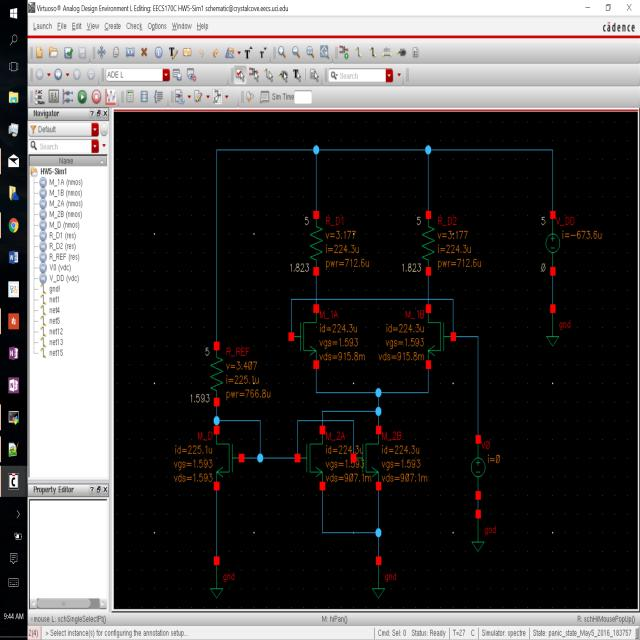gnd: (204, 550, 226, 604), (367, 555, 389, 605), (542, 302, 561, 356)
idc: (466, 430, 492, 502)
nmos: (424, 302, 458, 376), (212, 423, 246, 496), (286, 303, 321, 372), (351, 424, 383, 494), (302, 423, 326, 490)
res: (202, 338, 227, 406), (304, 211, 326, 282), (419, 209, 436, 276)
vdc: (536, 209, 566, 279)
